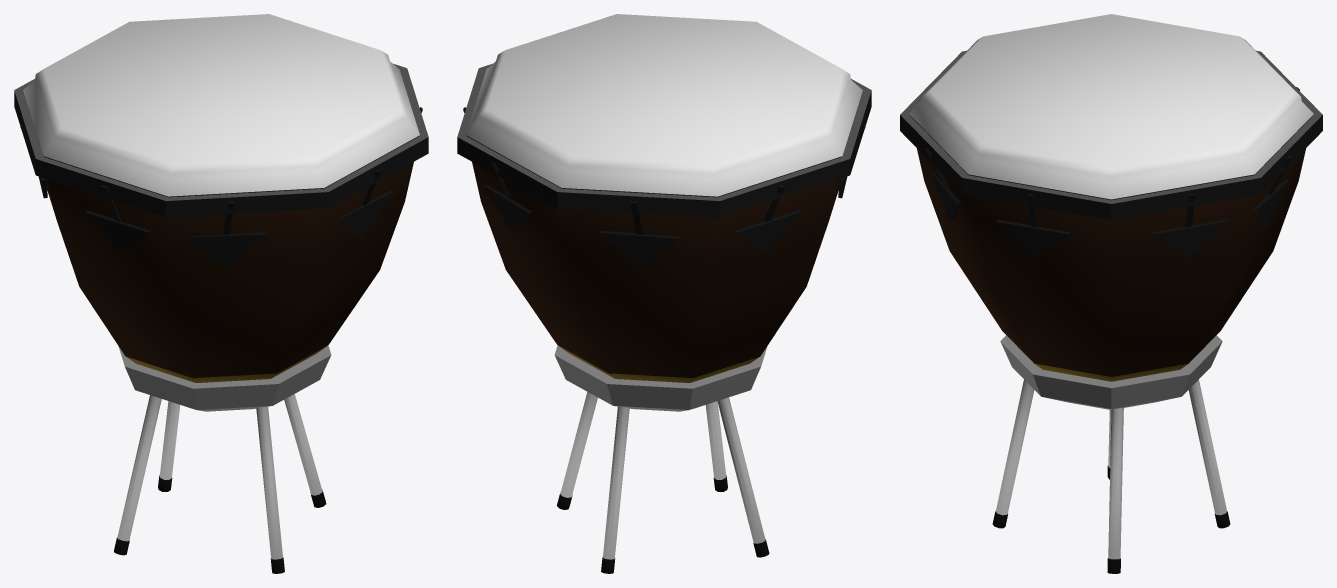
Rendered from Timpani.fbx.
The picture shows the model from 3 angles, left to right: view 1: azimuth 30°, elevation 25°; view 2: azimuth 150°, elevation 25°; view 3: azimuth 270°, elevation 25°; orthographic projection.
Visible parts, largest first — view 1: Circle; view 2: Circle; view 3: Circle.
Part boxes in pixels (x1,y1,x2,y2): Circle: (14, 14, 428, 573); Circle: (457, 14, 871, 573); Circle: (900, 14, 1322, 573).
Size of the model in its own units: 165 by 188 by 165.
